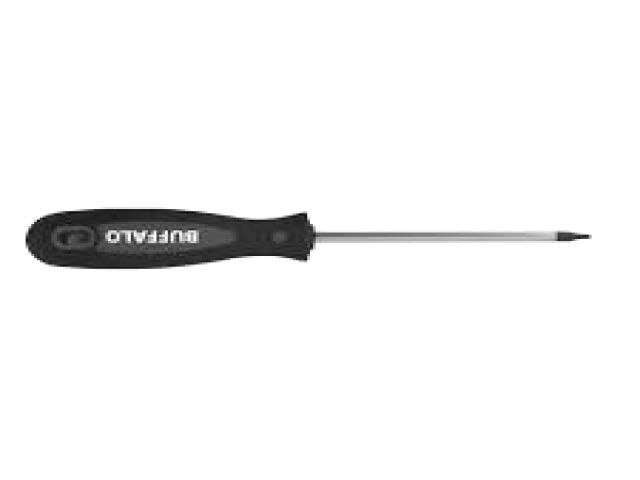Screwdriver: (26, 210, 590, 269)
